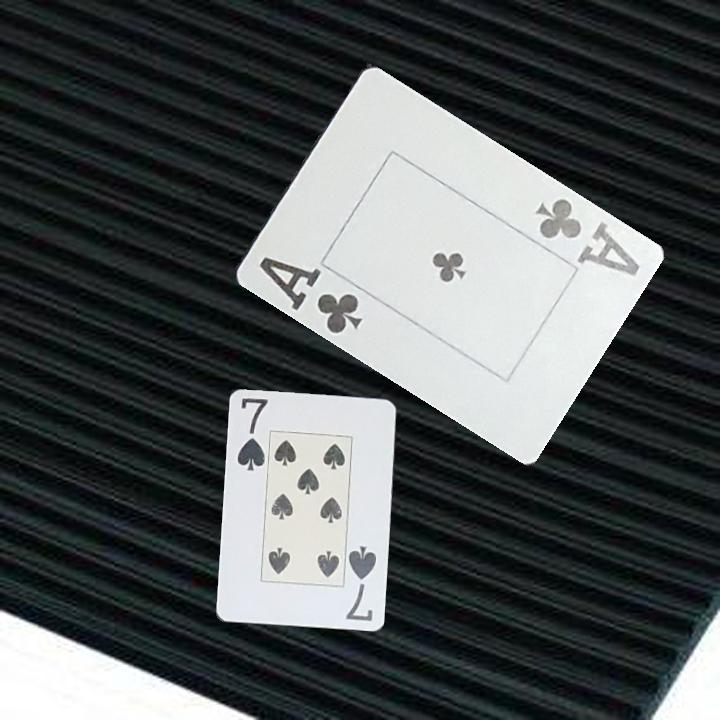7s: (342, 542, 379, 624), (233, 394, 270, 474)
Ac: (254, 253, 365, 340), (530, 194, 642, 280)
